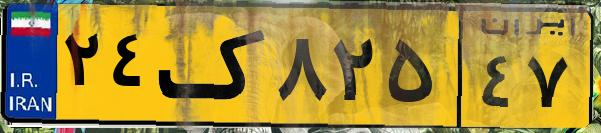2: (330, 28, 385, 110), (57, 26, 110, 100)
4: (475, 38, 525, 113), (110, 28, 158, 98)
5: (385, 28, 445, 110)
7: (525, 38, 570, 115)
8: (270, 28, 330, 110)
ک: (158, 12, 270, 120)
